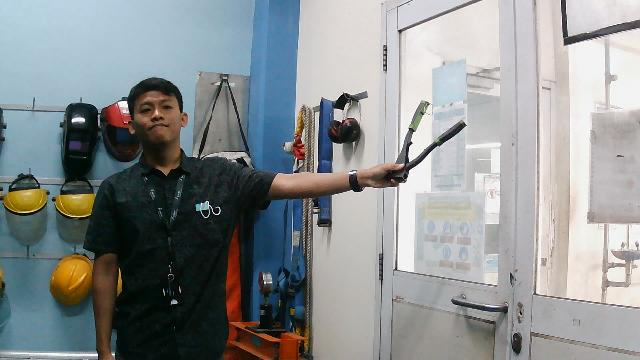tang_rivet: (390, 97, 470, 188)
